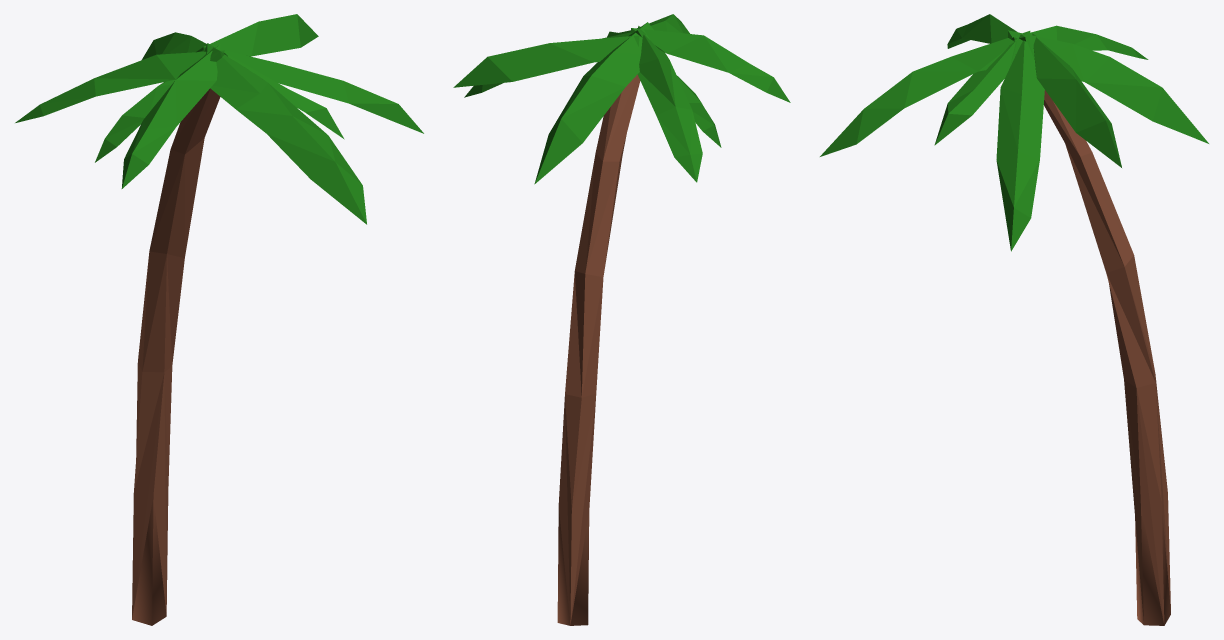
The model's file is betterTree.fbx.
3 views of the same model, side by side, from view 1: azimuth 30°, elevation 25°; view 2: azimuth 150°, elevation 25°; view 3: azimuth 270°, elevation 25° (orthographic). The views are drawn at different scales.
Visible parts, largest first — view 1: Tree_09_summer_mat.001, Tree_09_summer_mat; view 2: Tree_09_summer_mat.001, Tree_09_summer_mat; view 3: Tree_09_summer_mat.001, Tree_09_summer_mat.
Boxes of the visible parts, bbox=[...] form: Tree_09_summer_mat.001: bbox=[15, 14, 423, 224]; Tree_09_summer_mat: bbox=[132, 88, 220, 625]; Tree_09_summer_mat.001: bbox=[453, 14, 790, 184]; Tree_09_summer_mat: bbox=[557, 74, 640, 625]; Tree_09_summer_mat.001: bbox=[820, 14, 1208, 251]; Tree_09_summer_mat: bbox=[1044, 90, 1170, 625].
Bounding box in the file's own units: 513 × 910 × 547.
